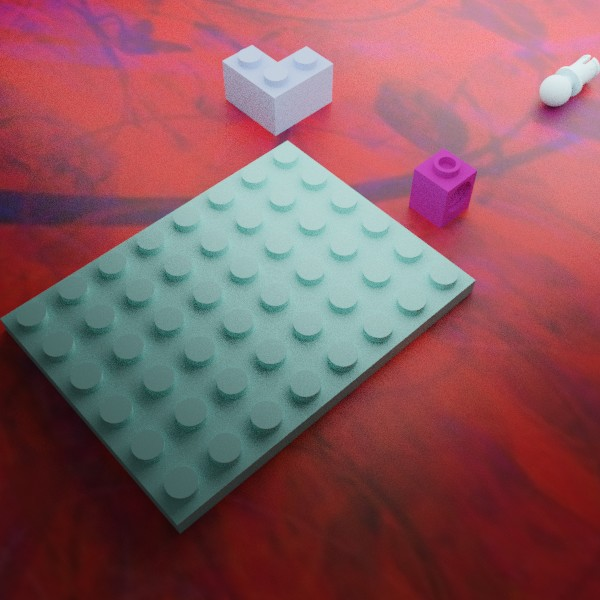lego: (0, 140, 475, 533), (222, 44, 333, 136), (408, 148, 477, 228), (539, 54, 599, 106)
